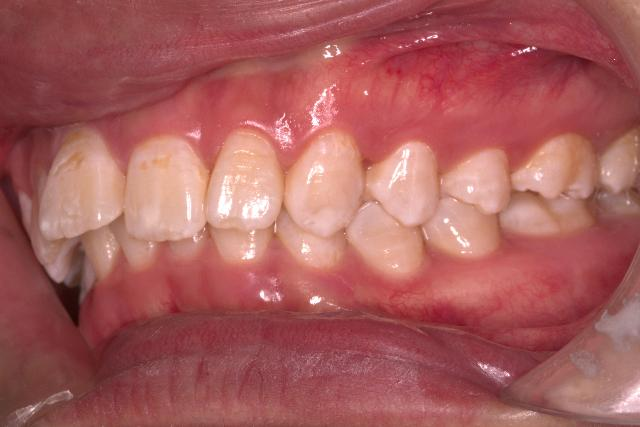molar class I: (264, 121, 426, 285)
molar class III 1/4: (490, 126, 606, 244)
